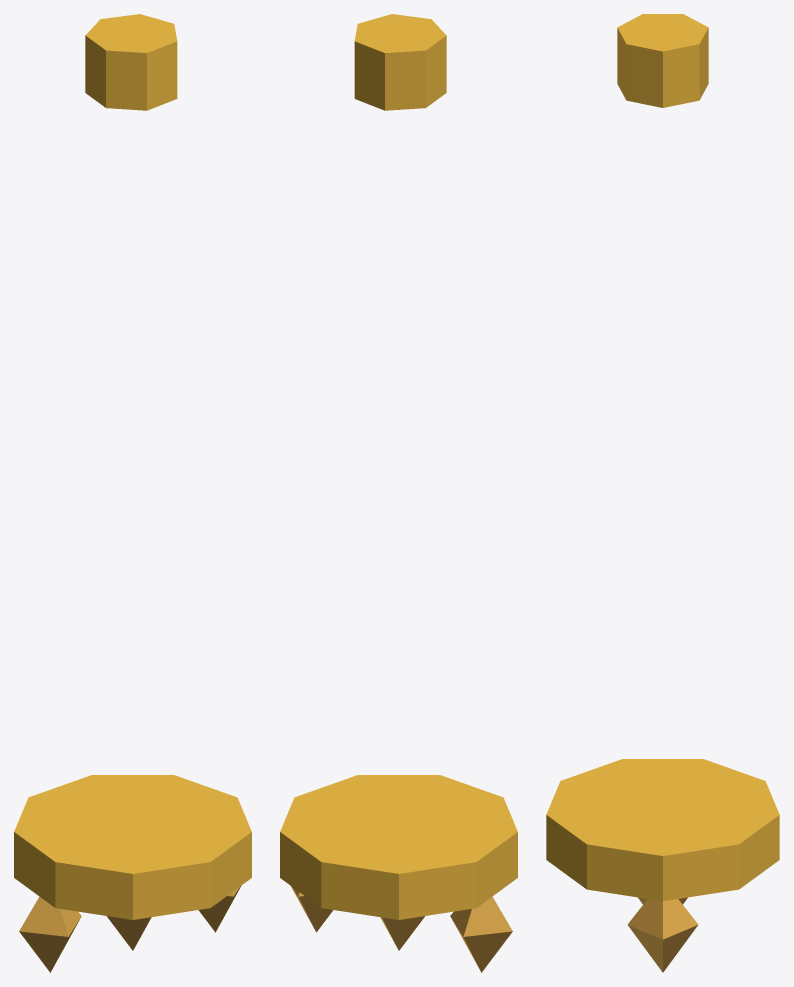
Rendered from custom_broom_laco_golden.obj.
3 views of the same model, side by side, from view 1: azimuth 30°, elevation 25°; view 2: azimuth 150°, elevation 25°; view 3: azimuth 270°, elevation 25° (orthographic).
Bounding box in the file's own units: 0.414 × 1.6 × 0.3742.
